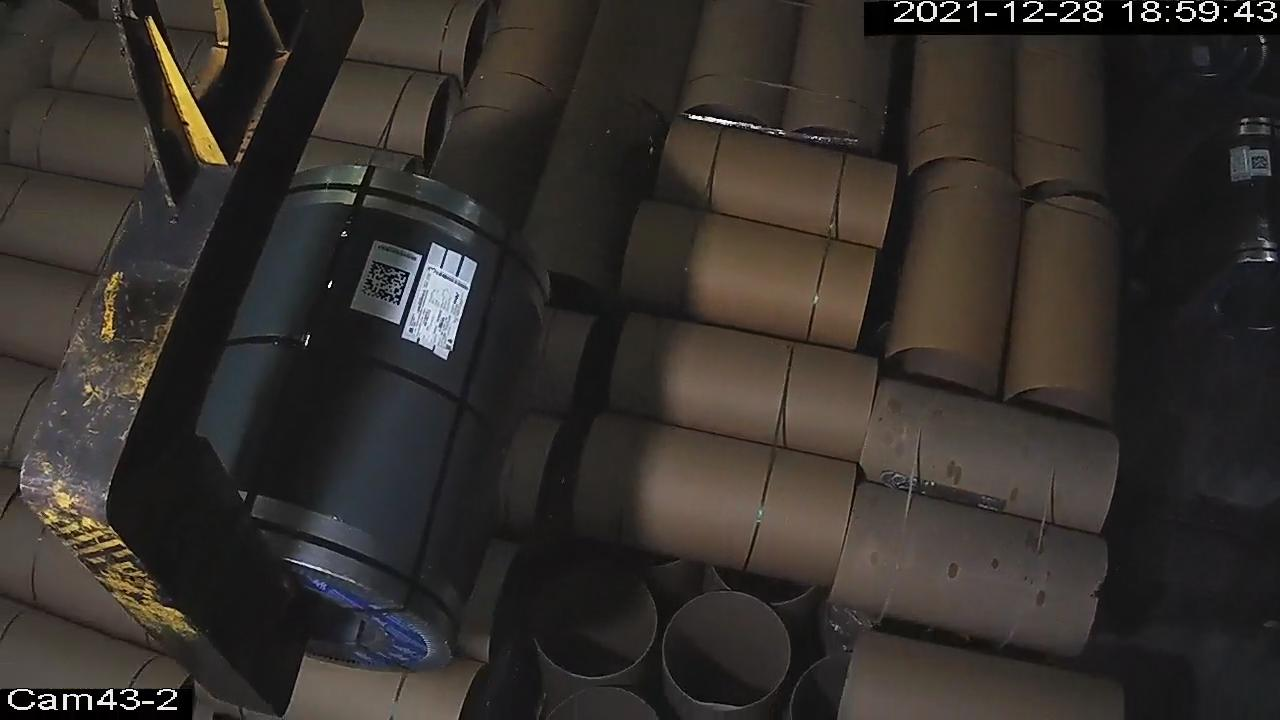data matrix: (359, 257, 415, 310), (1249, 153, 1273, 173)
